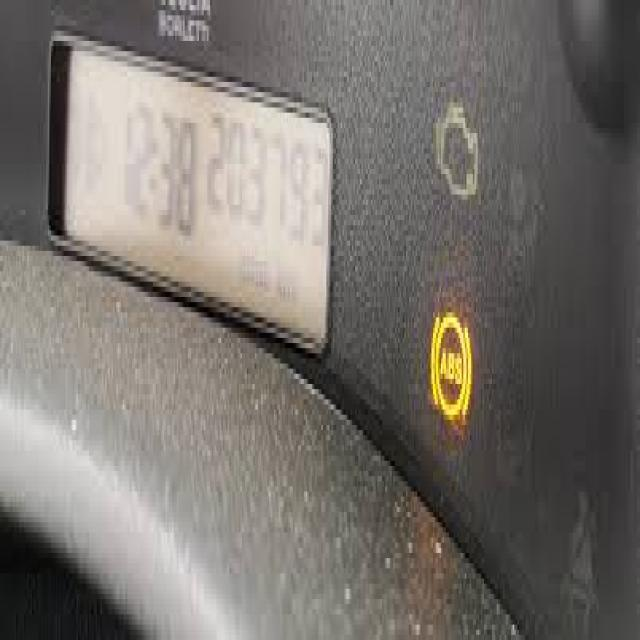kontrolka: (426, 291, 478, 436)
